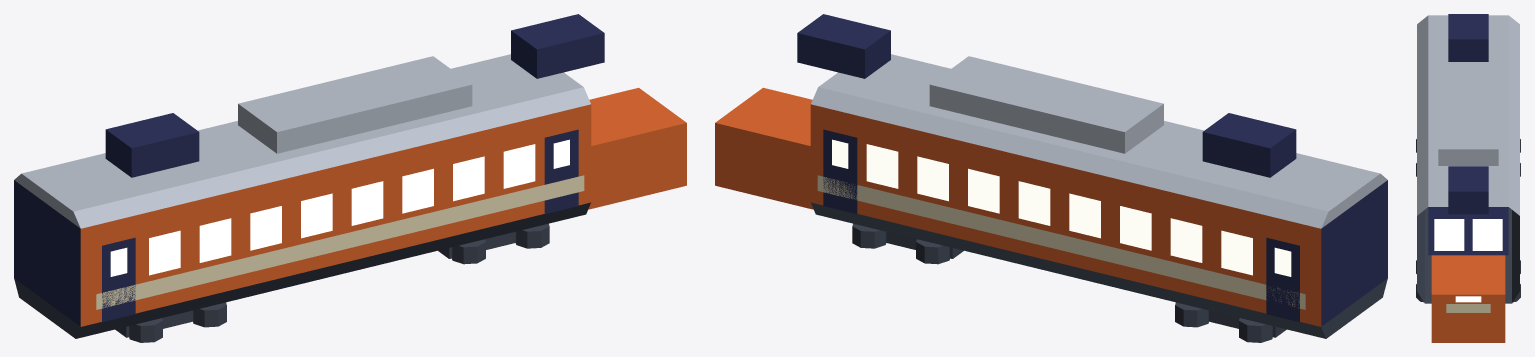
The model's file is tra-chukuang.glb.
3 renders of one model, left to right at view 1: azimuth 30°, elevation 25°; view 2: azimuth 150°, elevation 25°; view 3: azimuth 270°, elevation 25°, orthographic. The views are drawn at different scales.
Visible parts, largest first — view 1: tra-chukuang_root; view 2: tra-chukuang_root; view 3: tra-chukuang_root.
Part boxes in pixels (left/top/right/bottom): tra-chukuang_root: left=14, top=14, right=686, bottom=342; tra-chukuang_root: left=715, top=14, right=1387, bottom=342; tra-chukuang_root: left=1416, top=14, right=1520, bottom=342.
Size of the model in its own units: 16.42 by 4.56 by 3.14.
2 materials, 2 textured.
